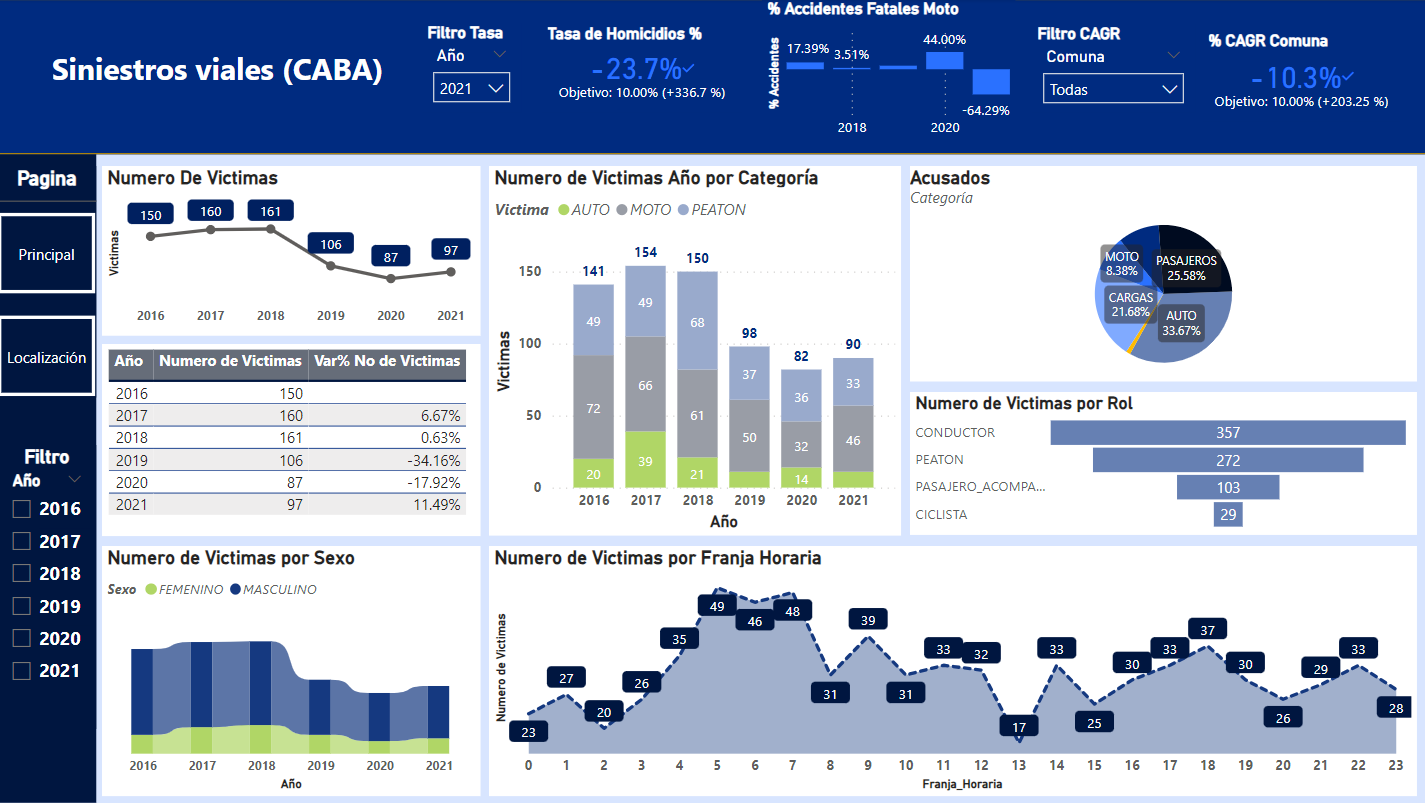

The dashboard page shown, as its layout file describes it:
{"tool":"powerbi","page":{"name":"Principal","canvas":[1280,720],"ordinal":0},"visuals":[{"type":"shape","box":[0,138.8,87.8,581.2],"z":0},{"type":"shape","box":[0,0,1279.7,138.8],"z":1000},{"type":"lineChart","title":"Numero De Victimas","fields":{"Category":["hechosyvictimas.Año"],"Y":["Sum(hechosyvictimas.Numero_Victimas)"]},"box":[93.1,149.6,339.4,152.2],"z":2000},{"type":"columnChart","title":"Numero de Victimas Año por Categoría","fields":{"Category":["hechosyvictimas.Año"],"Y":["Sum(hechosyvictimas.Numero_Victimas)"],"Series":["hechosyvictimas.Victima"]},"box":[439.7,149.6,369,331.3],"z":3000},{"type":"textbox","box":[34,38.5,325.1,45.7],"z":4000},{"type":"pieChart","title":"Acusados","fields":{"Y":["CountNonNull(hechosyvictimas.Acusado)"],"Series":["hechosyvictimas.Acusado"]},"box":[816.7,149.6,454,192.5],"z":5000},{"type":"areaChart","title":"Numero de Victimas por Franja Horaria","fields":{"Category":["hechosyvictimas.Franja_Horaria"],"Y":["Sum(hechosyvictimas.Numero_Victimas)"]},"box":[439.7,489.9,831,223.9],"z":6000},{"type":"tableEx","fields":{"Values":["Calendario.Año","Sum(hechosyvictimas.Numero_Victimas)","Calendario.Var% No.Victimas"]},"box":[93.1,309,339.4,171.9],"z":7000},{"type":"slicer","title":"Filtro","fields":{"Values":["LocalDateTable_4db570c2-8ebb-436c-9762-037321cdac86.Año"]},"box":[0,399.4,87.8,254.3],"z":8000},{"type":"pageNavigator","title":"Pagina","box":[0,149.6,87.8,206.9],"z":9000},{"type":"slicer","title":"Filtro Tasa","fields":{"Values":["Calendario.Año"]},"box":[379.7,21.5,88.7,79.7],"z":10000},{"type":"clusteredColumnChart","title":"% Accidentes Fatales Moto","fields":{"Category":["Calendario.Año"],"Y":["Medidas.% Accidentes Fatales Moto"]},"box":[684.2,0,226.6,132.5],"z":11000},{"type":"ribbonChart","title":"Numero de Victimas por Sexo","fields":{"Series":["hechosyvictimas.Sexo"],"Category":["Calendario.Año"],"Y":["Sum(hechosyvictimas.Numero_Victimas)"]},"box":[93.1,489.9,339.4,223.9],"z":12000},{"type":"kpi","title":"% CAGR Comuna","fields":{"Indicator":["Medidas.% CAGR Comuna"],"Goal":["Medidas.Objetivo victimas"],"TrendLine":["Calendario.Año"]},"box":[1079.1,28.7,176.4,81.5],"z":13000},{"type":"slicer","title":"Filtro CAGR","fields":{"Values":["hechosyvictimas.Comuna"]},"box":[926,22.4,146,78.8],"z":14000},{"type":"funnel","title":"Numero de Victimas por Rol","fields":{"Category":["hechosyvictimas.Rol"],"Y":["Sum(hechosyvictimas.Numero_Victimas)"]},"box":[816.7,351.9,454,128.1],"z":15000},{"type":"kpi","title":"Tasa de Homicidios %","fields":{"TrendLine":["Calendario.Año"],"Indicator":["Medidas.Victimas %"],"Goal":["Medidas.Objetivo victimas"]},"box":[487.2,22.4,179.1,78.8],"z":16000}]}

Visuals, with their boxes in screenshot pixels (x1, y1, x2, y2), scaled from the page's 1280x720 canvas onto the 1425x803 screenshot:
shape: {"left": 0, "top": 155, "right": 98, "bottom": 802}
shape: {"left": 0, "top": 0, "right": 1424, "bottom": 155}
"Numero De Victimas" lineChart: {"left": 104, "top": 167, "right": 481, "bottom": 337}
"Numero de Victimas Año por Categoría" columnChart: {"left": 490, "top": 167, "right": 900, "bottom": 536}
textbox: {"left": 38, "top": 43, "right": 400, "bottom": 94}
"Acusados" pieChart: {"left": 909, "top": 167, "right": 1415, "bottom": 382}
"Numero de Victimas por Franja Horaria" areaChart: {"left": 490, "top": 546, "right": 1415, "bottom": 796}
tableEx - Calendario.Año x Sum(hechosyvictimas.Numero_Victimas): {"left": 104, "top": 345, "right": 481, "bottom": 536}
"Filtro" slicer: {"left": 0, "top": 445, "right": 98, "bottom": 729}
"Pagina" pageNavigator: {"left": 0, "top": 167, "right": 98, "bottom": 398}
"Filtro Tasa" slicer: {"left": 423, "top": 24, "right": 521, "bottom": 113}
"% Accidentes Fatales Moto" clusteredColumnChart: {"left": 762, "top": 0, "right": 1014, "bottom": 148}
"Numero de Victimas por Sexo" ribbonChart: {"left": 104, "top": 546, "right": 481, "bottom": 796}
"% CAGR Comuna" kpi: {"left": 1201, "top": 32, "right": 1398, "bottom": 123}
"Filtro CAGR" slicer: {"left": 1031, "top": 25, "right": 1193, "bottom": 113}
"Numero de Victimas por Rol" funnel: {"left": 909, "top": 392, "right": 1415, "bottom": 535}
"Tasa de Homicidios %" kpi: {"left": 542, "top": 25, "right": 742, "bottom": 113}
